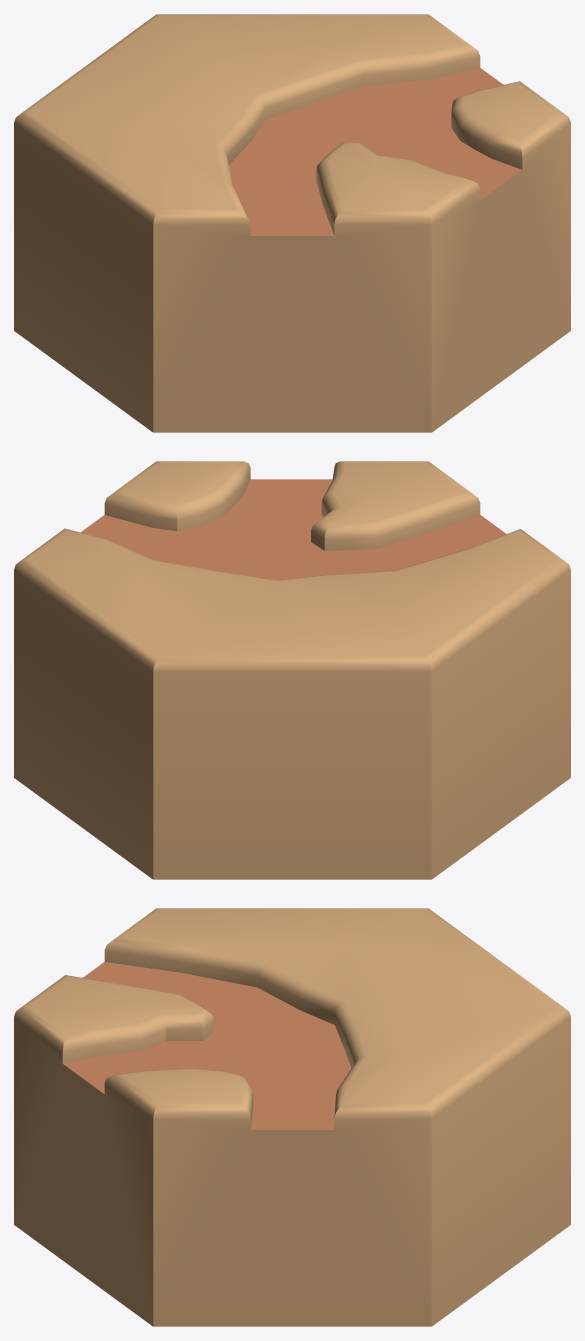
The model's file is hex_sand_roadH.glb.
3 views of the same model, one above another, from view 1: azimuth 30°, elevation 25°; view 2: azimuth 150°, elevation 25°; view 3: azimuth 270°, elevation 25° (orthographic).
Parts seen in each view (by area): view 1: hex_sand_roadH; view 2: hex_sand_roadH; view 3: hex_sand_roadH.
Boxes of the visible parts, left/top/right/bottom form: hex_sand_roadH: left=14, top=14, right=570, bottom=432; hex_sand_roadH: left=14, top=461, right=570, bottom=879; hex_sand_roadH: left=14, top=908, right=570, bottom=1326.
Size of the model in its own units: 2 by 1 by 2.31.
